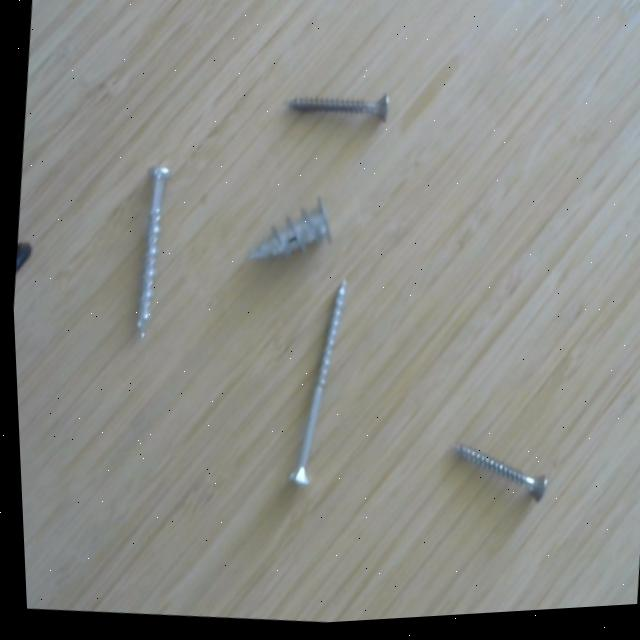Black screw: (442, 438, 550, 515), (280, 94, 393, 131)
Long screw: (279, 274, 352, 497)
Medium screw: (126, 158, 175, 349)
Short screw: (236, 191, 337, 273)
